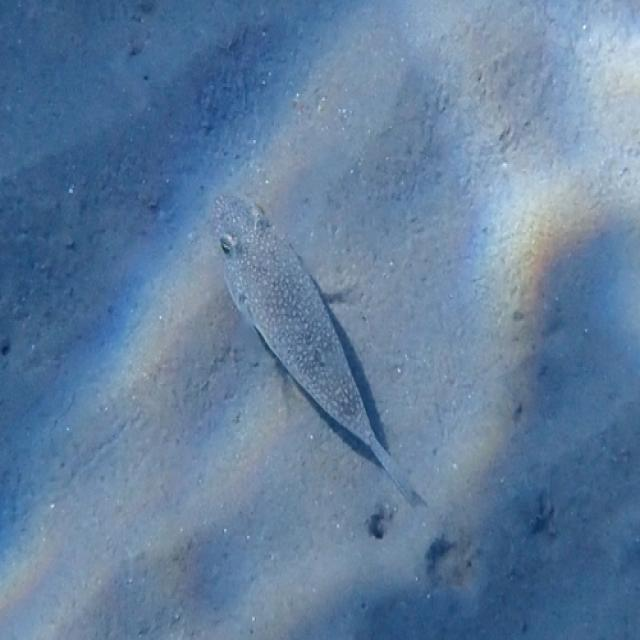Balik: (213, 197, 423, 505)
